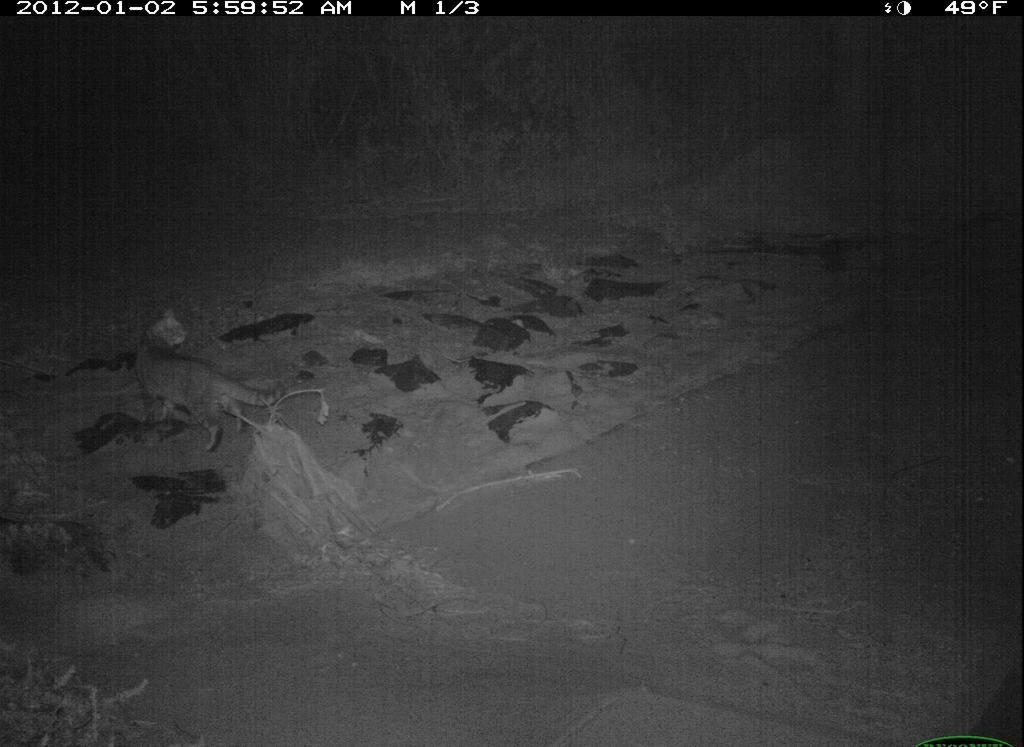cat: (119, 302, 297, 461)
